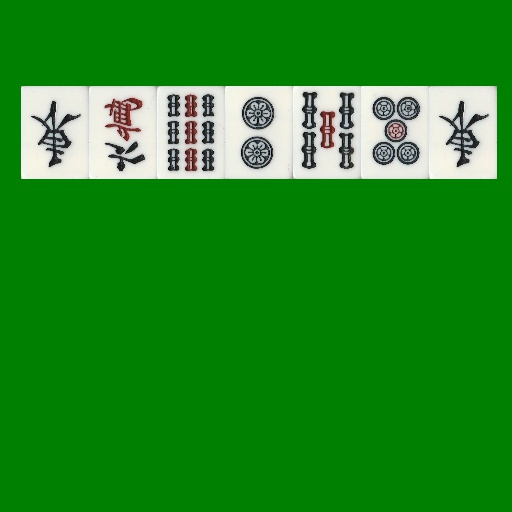2p: (225, 86, 293, 179)
5p: (361, 86, 429, 179)
5s: (293, 86, 361, 179)
6m: (89, 86, 157, 179)
9s: (157, 86, 225, 179)
east: (21, 86, 89, 179), (429, 86, 497, 179)
